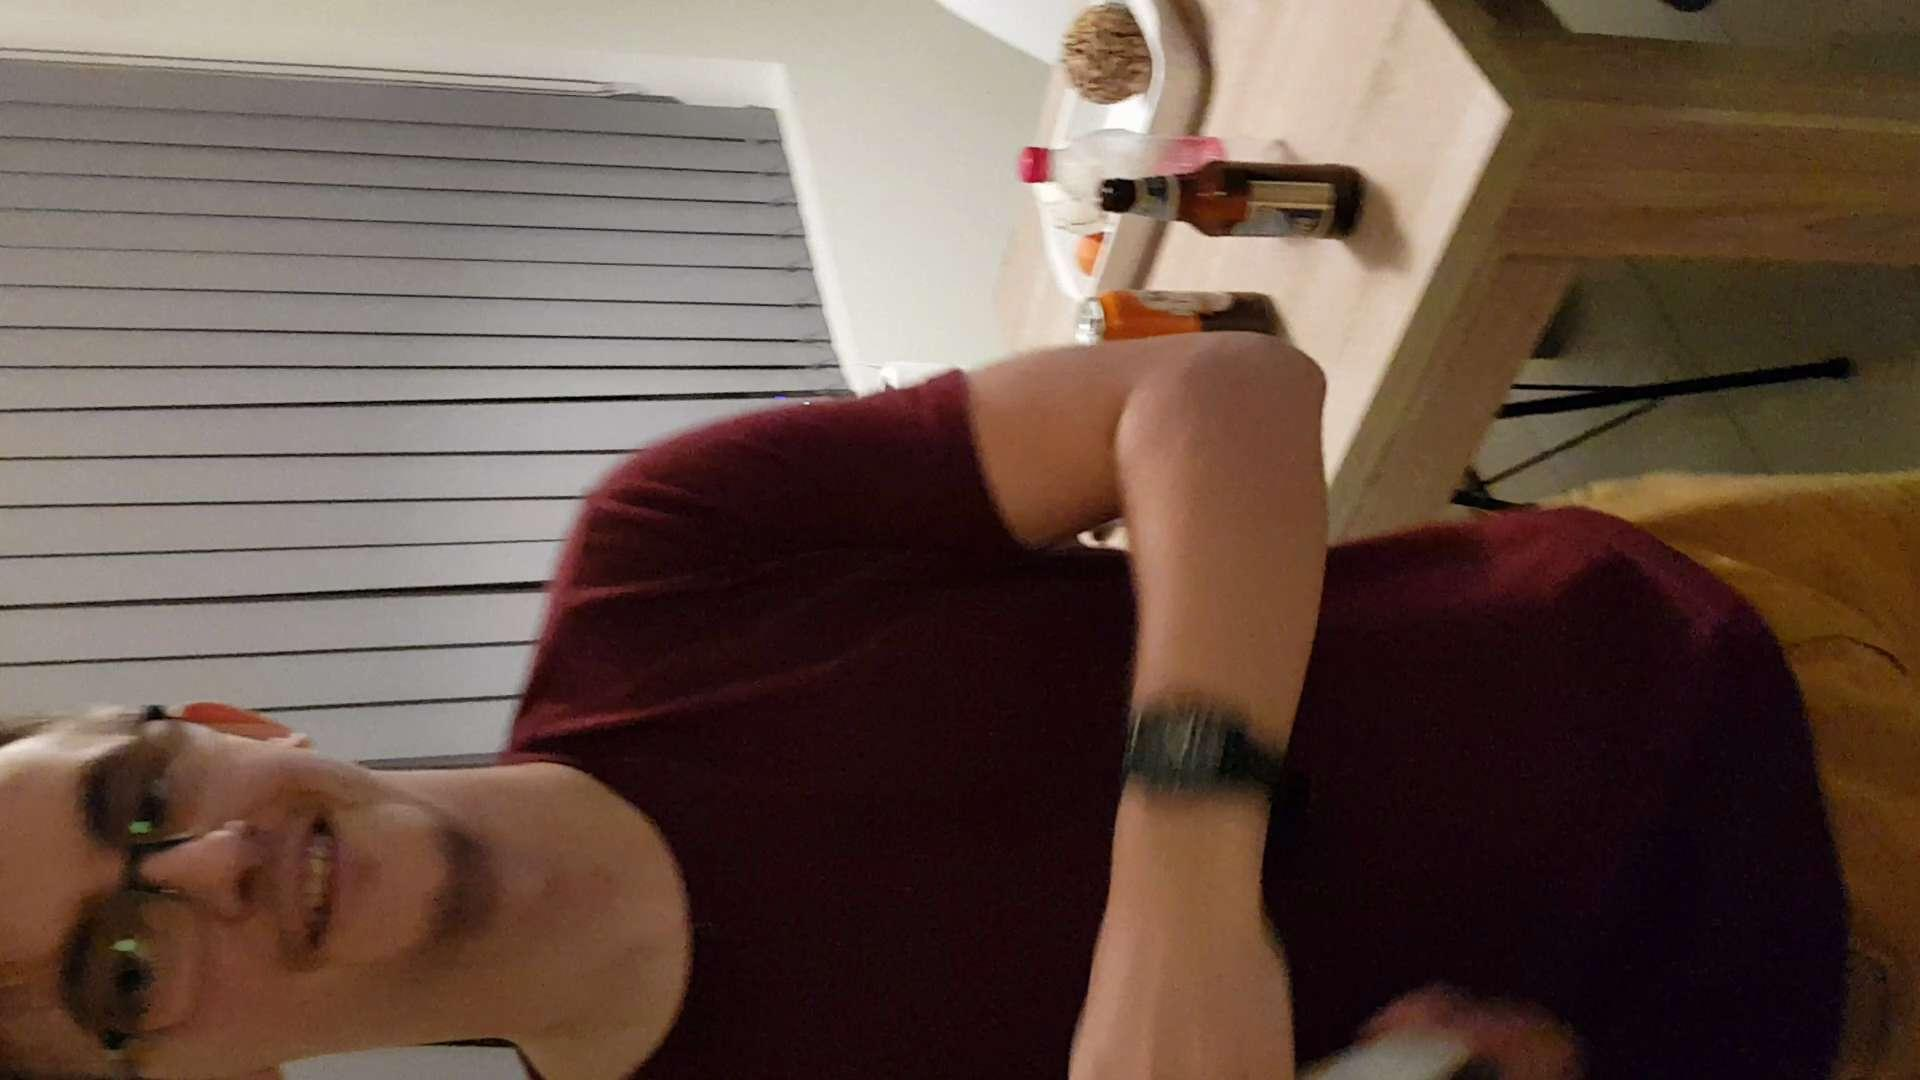Bottle: (1095, 156, 1381, 251)
Can: (1071, 273, 1283, 382)
Sphere: (1044, 7, 1163, 102)
